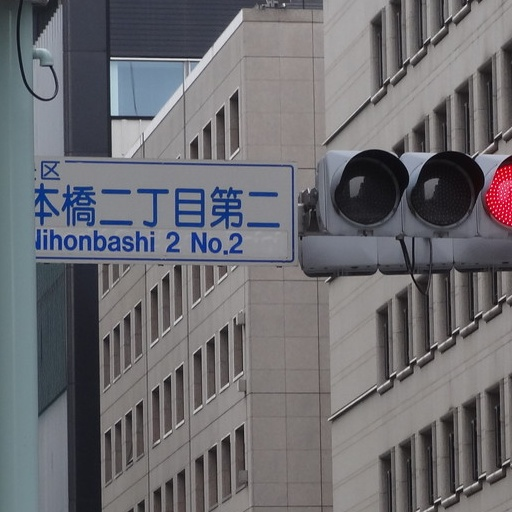Traffic_Signal_Red: (325, 139, 509, 237)
